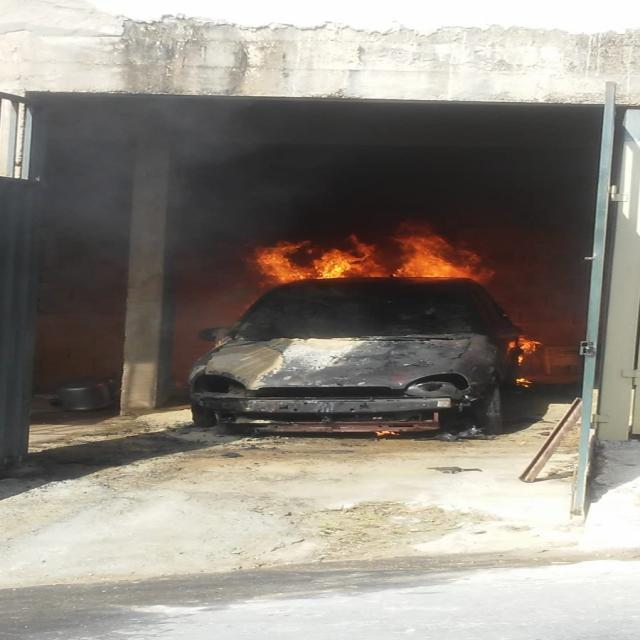Fire: (248, 218, 540, 292)
